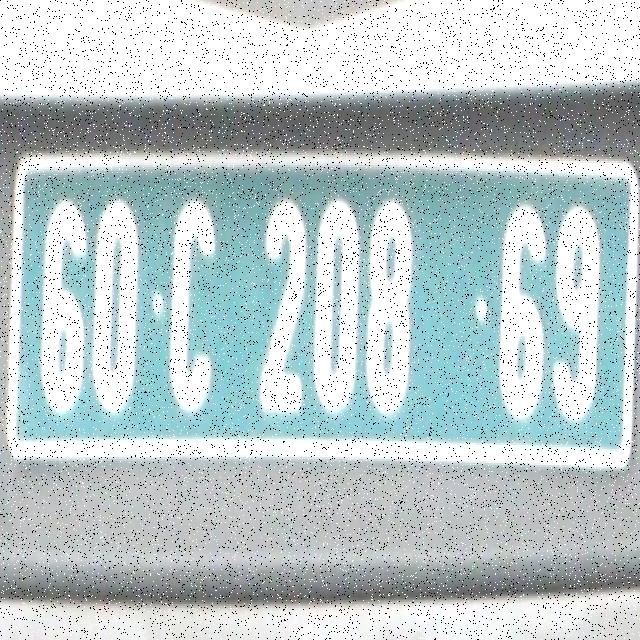licenseplate: (7, 150, 640, 467)
